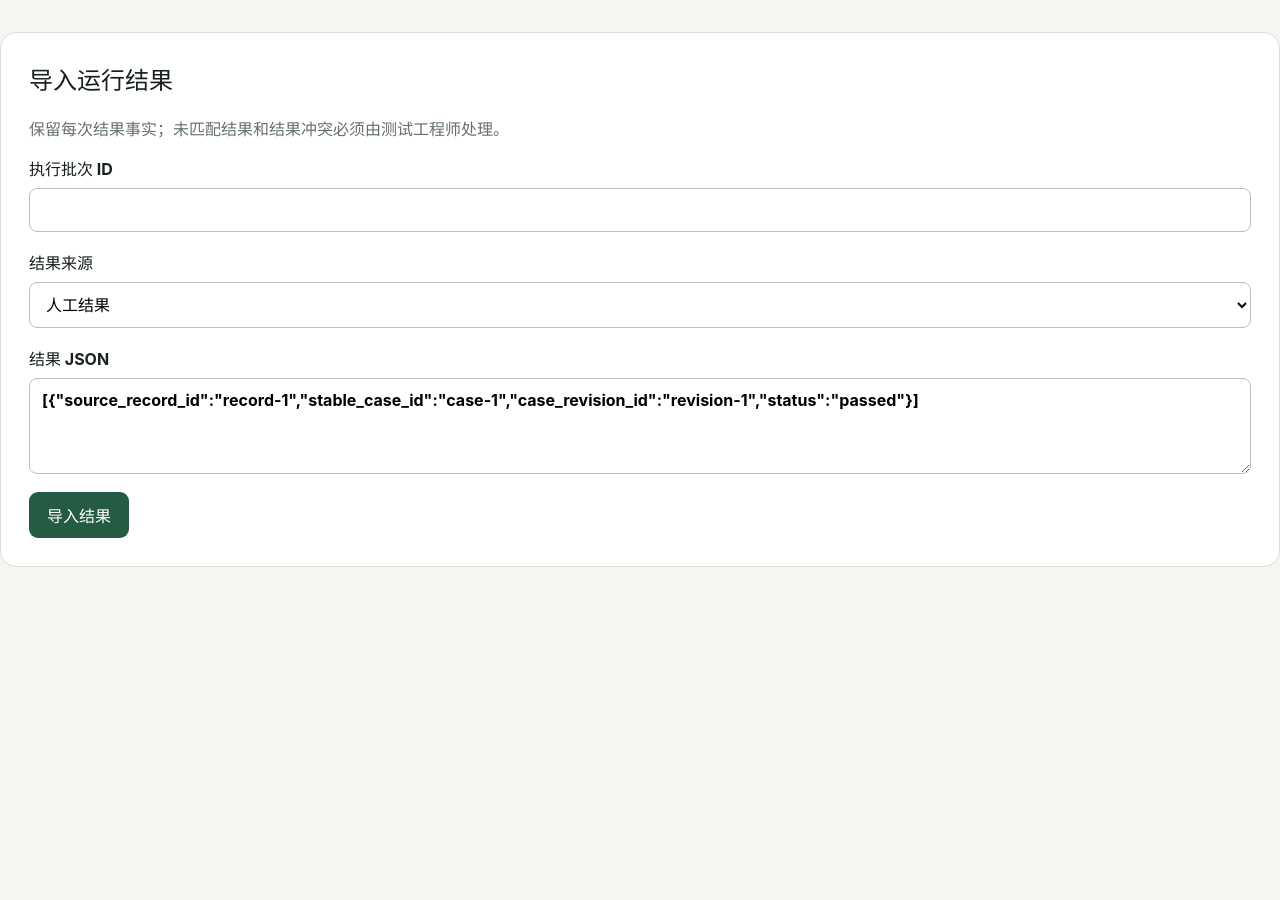
Scenario: 测试工程师可以导入结果、处理冲突并确认批次结论
In the field labelled "执行批次 ID": [640, 210] box left=29, top=188, right=1251, bottom=232, type "3"
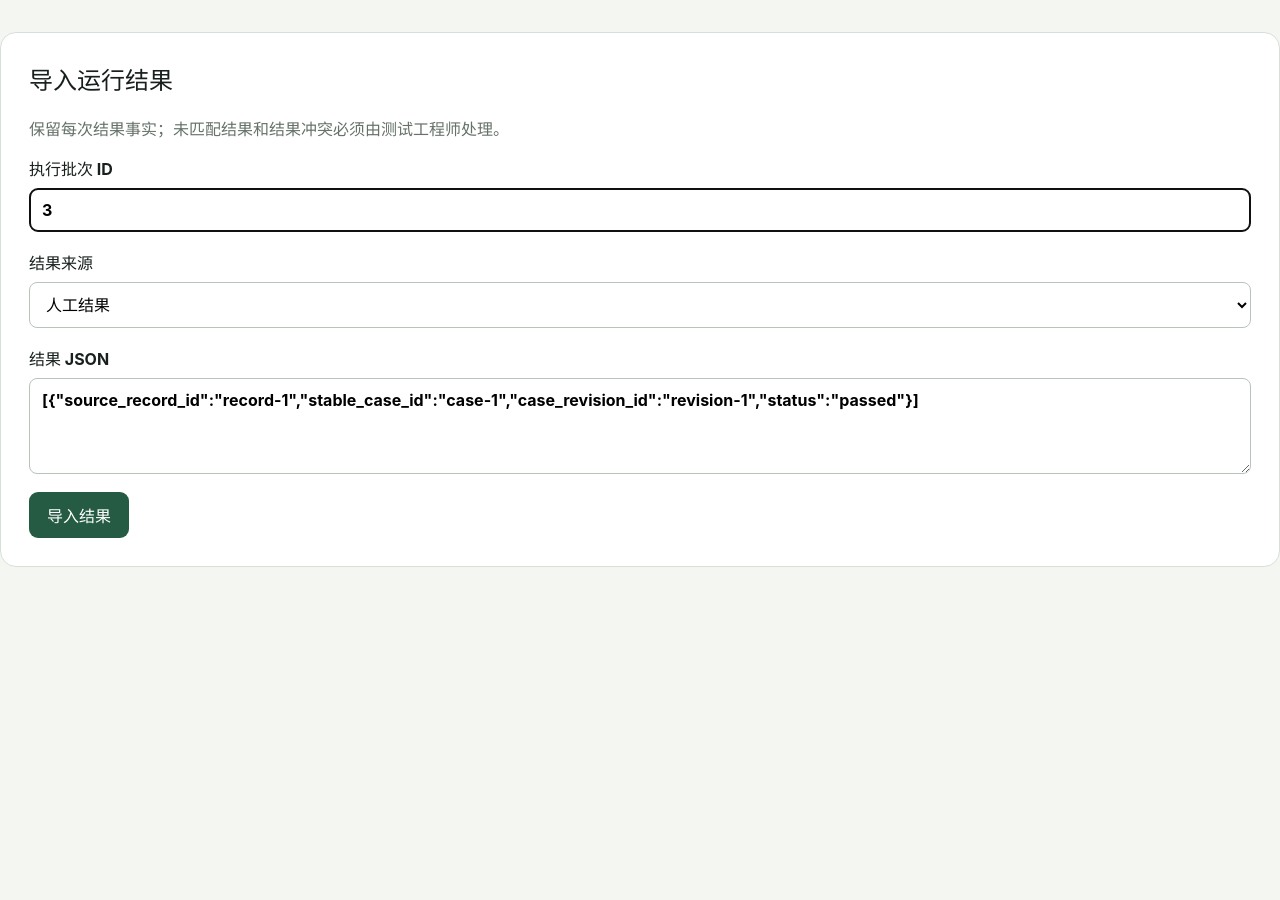
Click the button "导入结果": [79, 515] box left=29, top=492, right=129, bottom=538
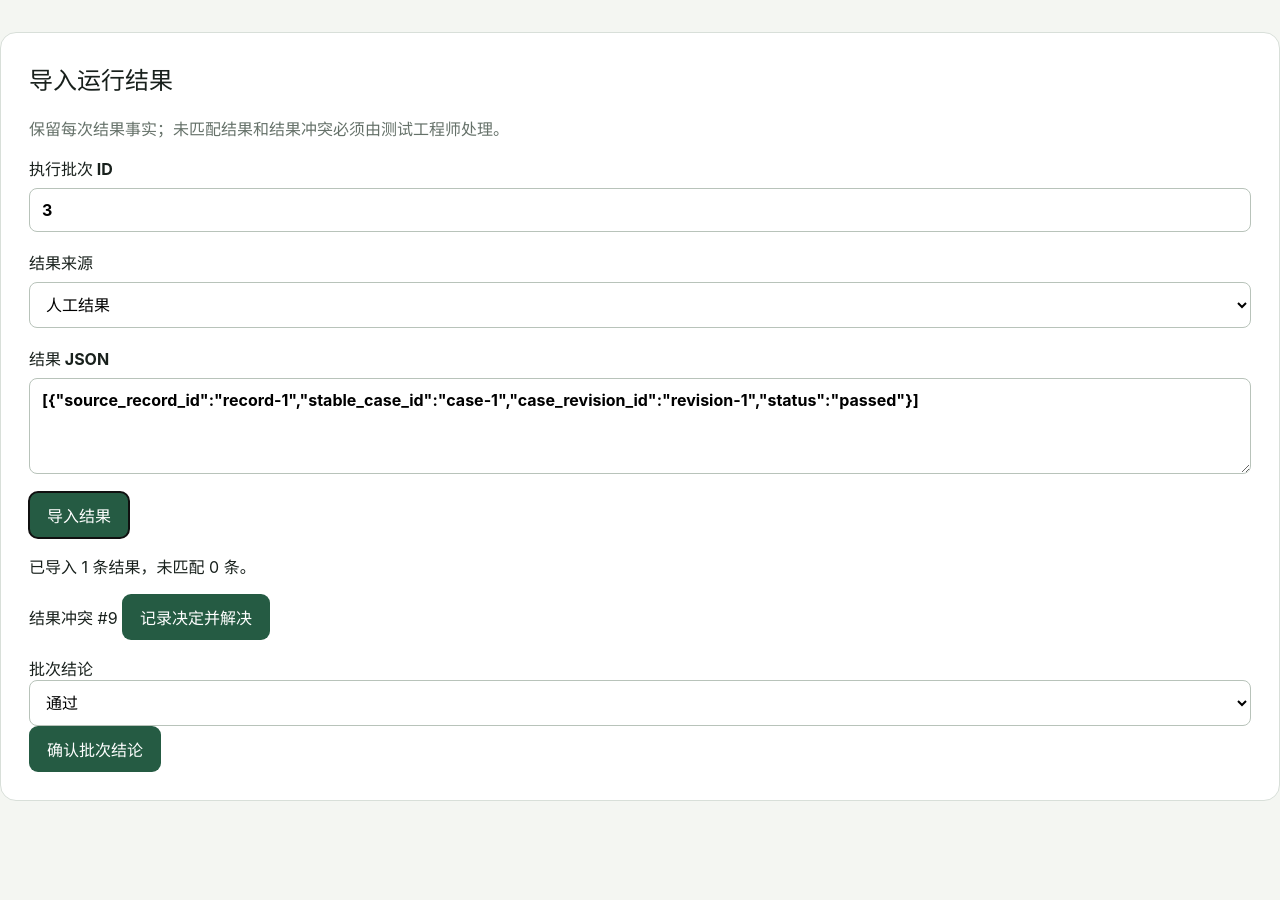
Expected: the message shows "已导入 1 条结果", left=29, top=554, right=1251, bottom=772
Click the button "记录决定并解决": [196, 617] box left=122, top=594, right=270, bottom=640
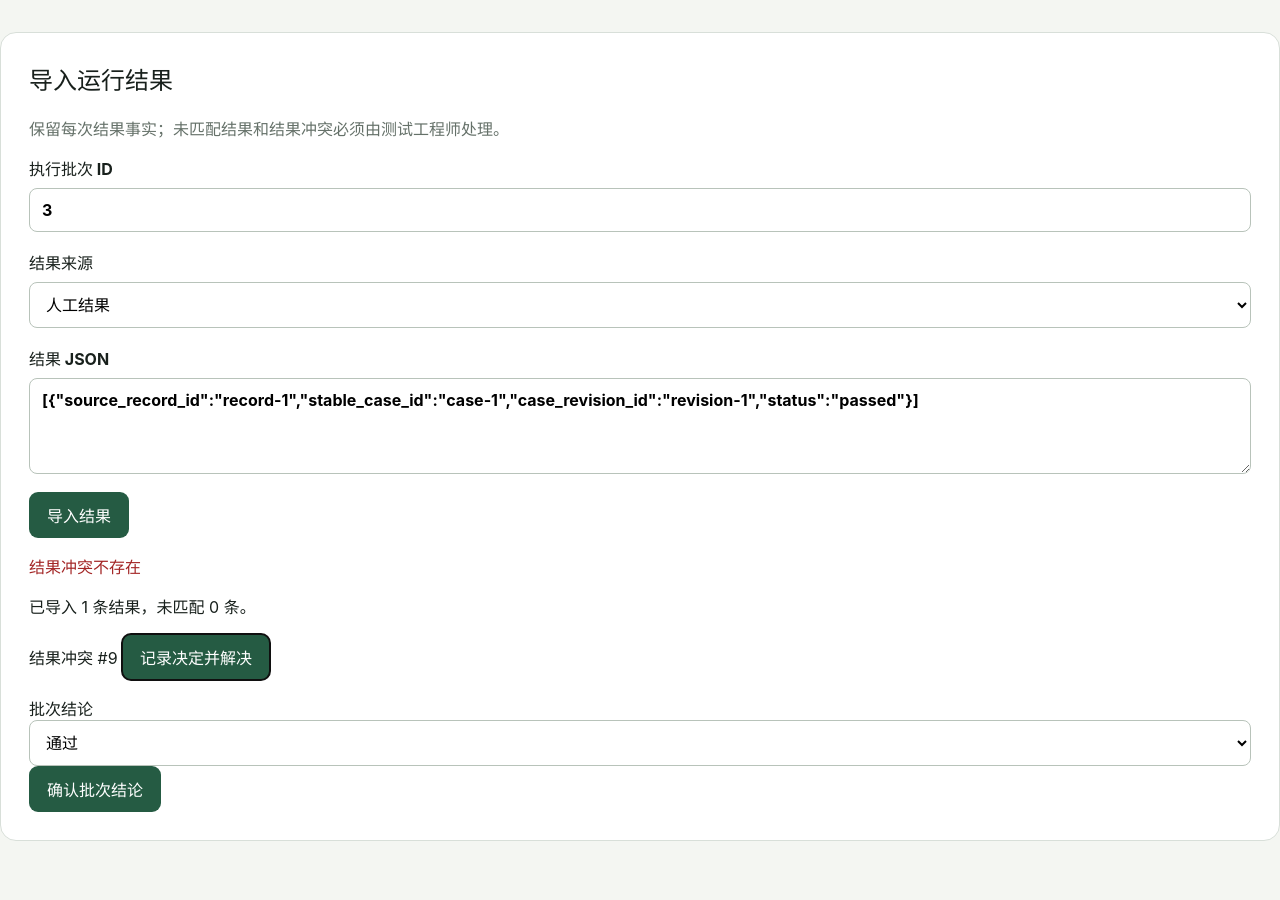
Click the button "确认批次结论": [95, 789] box left=29, top=766, right=161, bottom=812
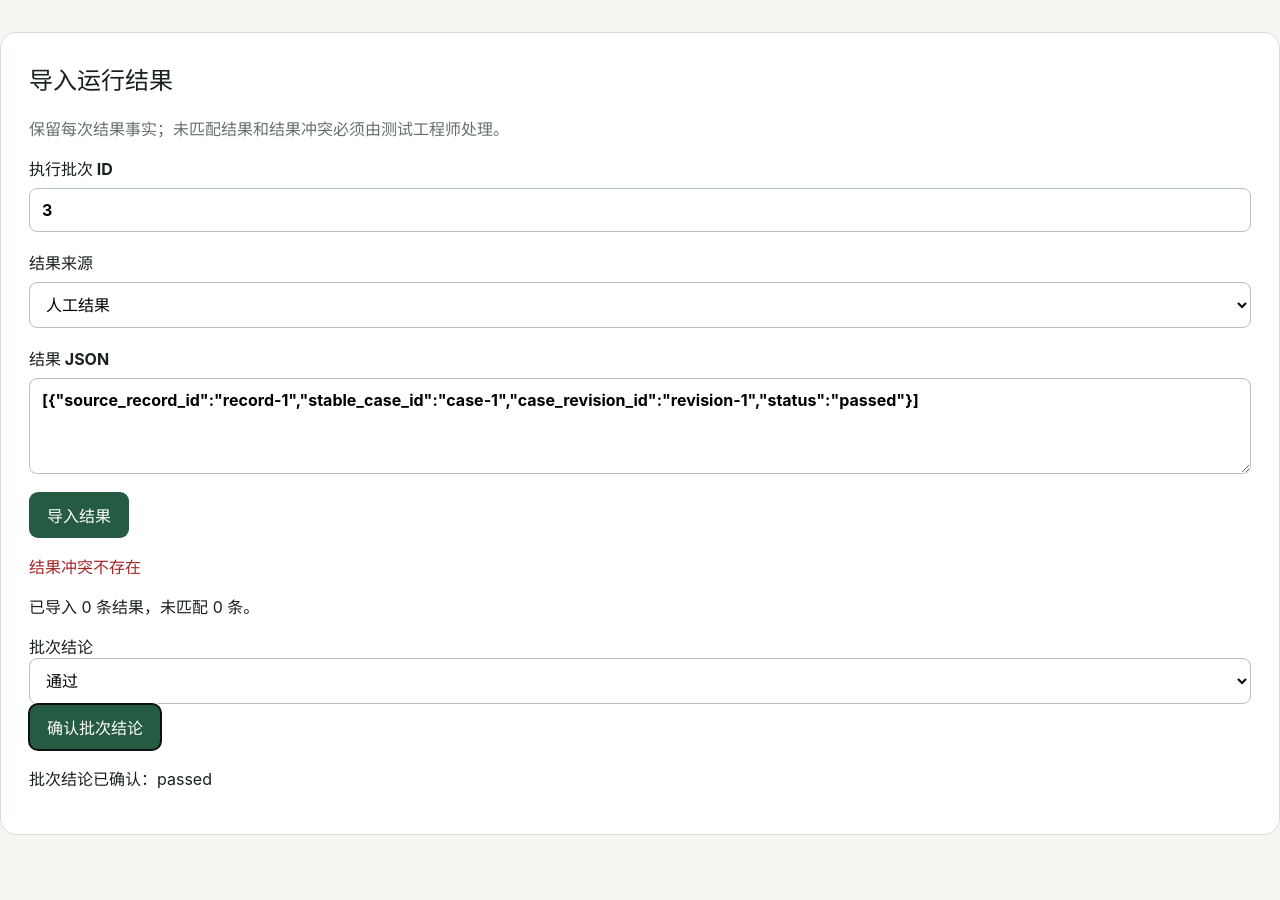
Expected: the text "批次结论已确认：passed" is shown, left=29, top=769, right=212, bottom=789
